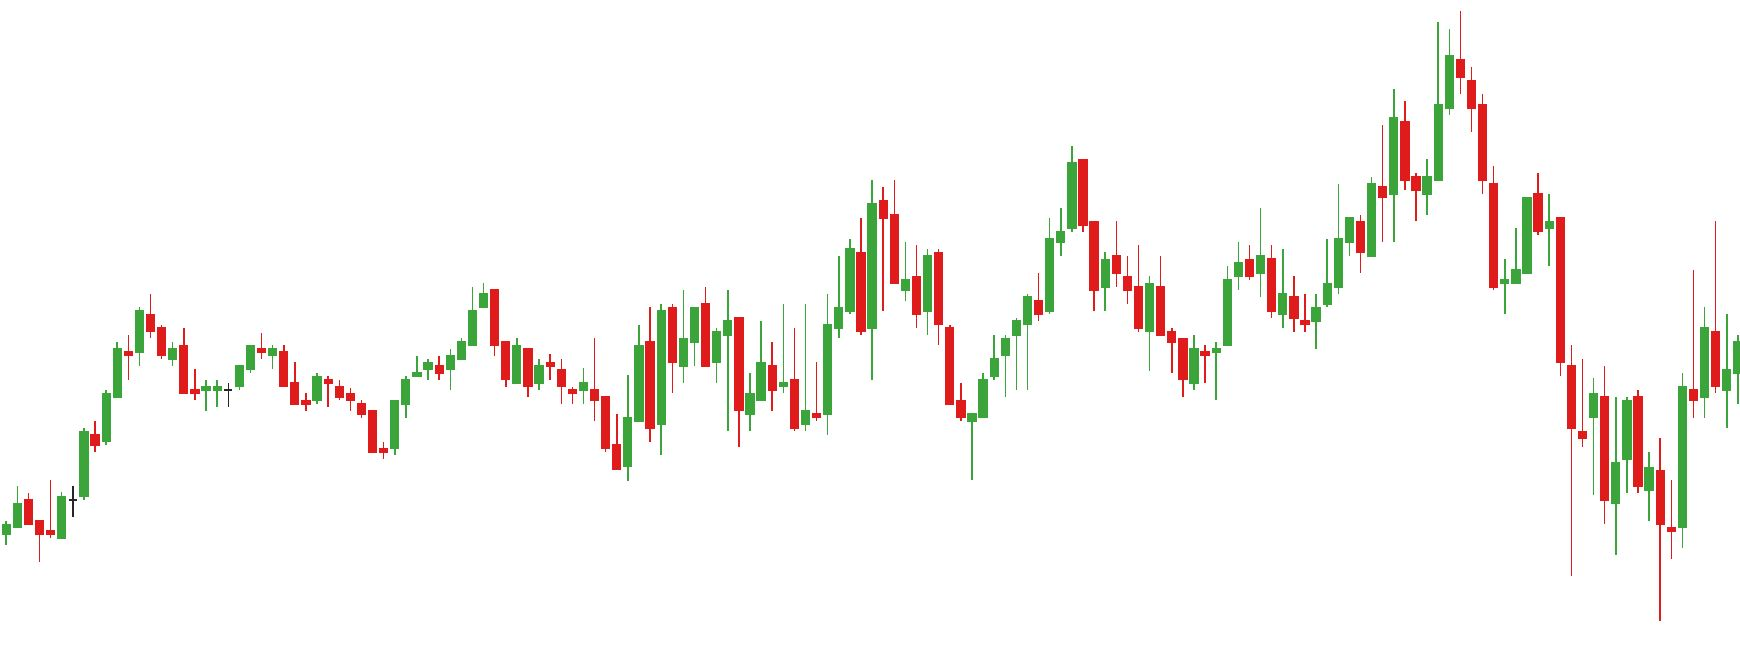buy: (365, 344, 636, 485), (798, 292, 980, 488), (1568, 449, 1690, 623)
sell: (1376, 10, 1478, 192)
